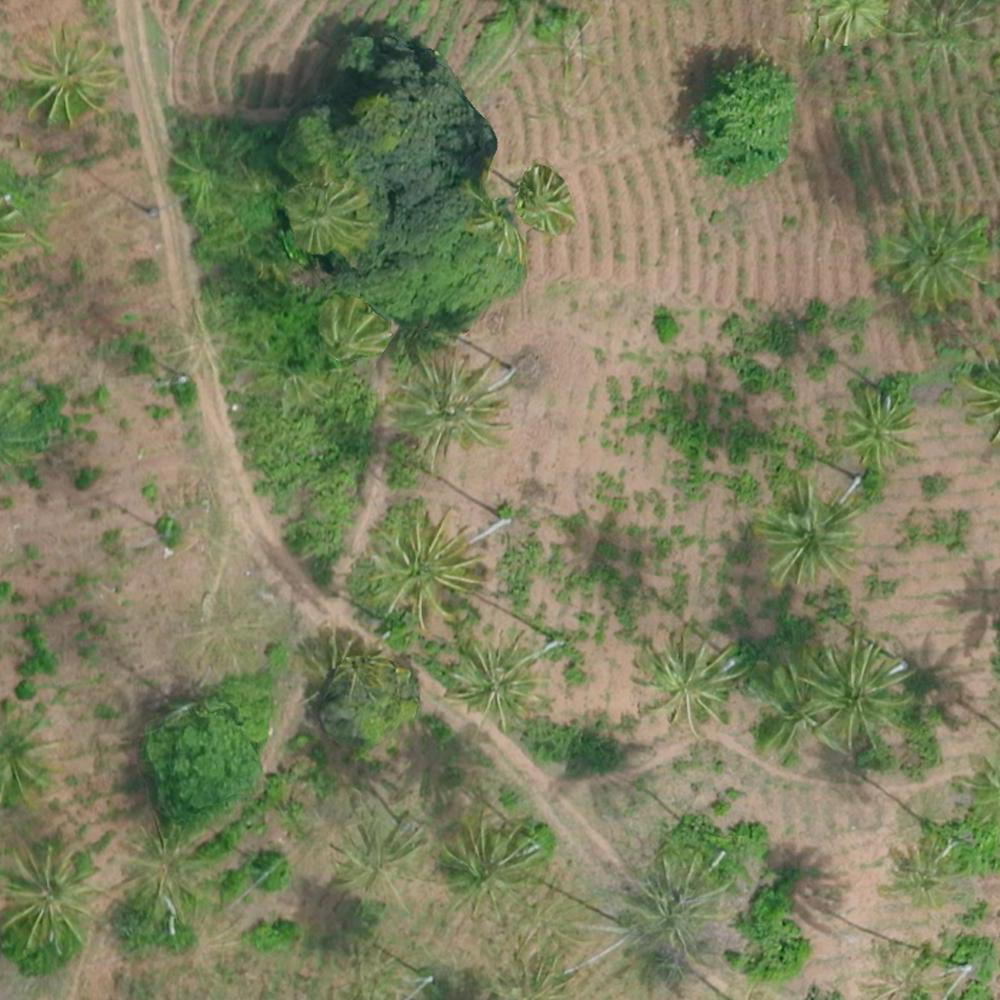Palm: (370, 510, 482, 622), (391, 357, 507, 463), (804, 636, 911, 742), (878, 204, 987, 308), (435, 814, 538, 918), (630, 631, 741, 727), (1, 839, 93, 950), (625, 855, 728, 954), (754, 477, 857, 576), (336, 804, 434, 907), (18, 25, 114, 130), (448, 636, 549, 731), (283, 173, 369, 257), (835, 393, 922, 472)
